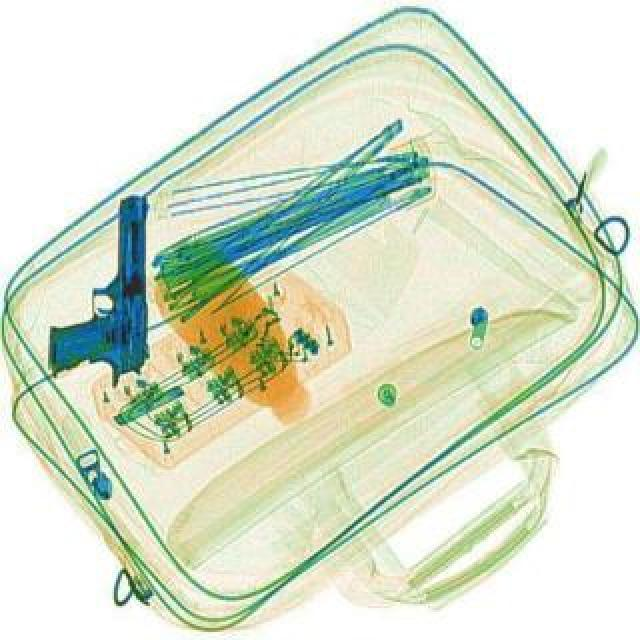gun: (44, 196, 148, 386)
